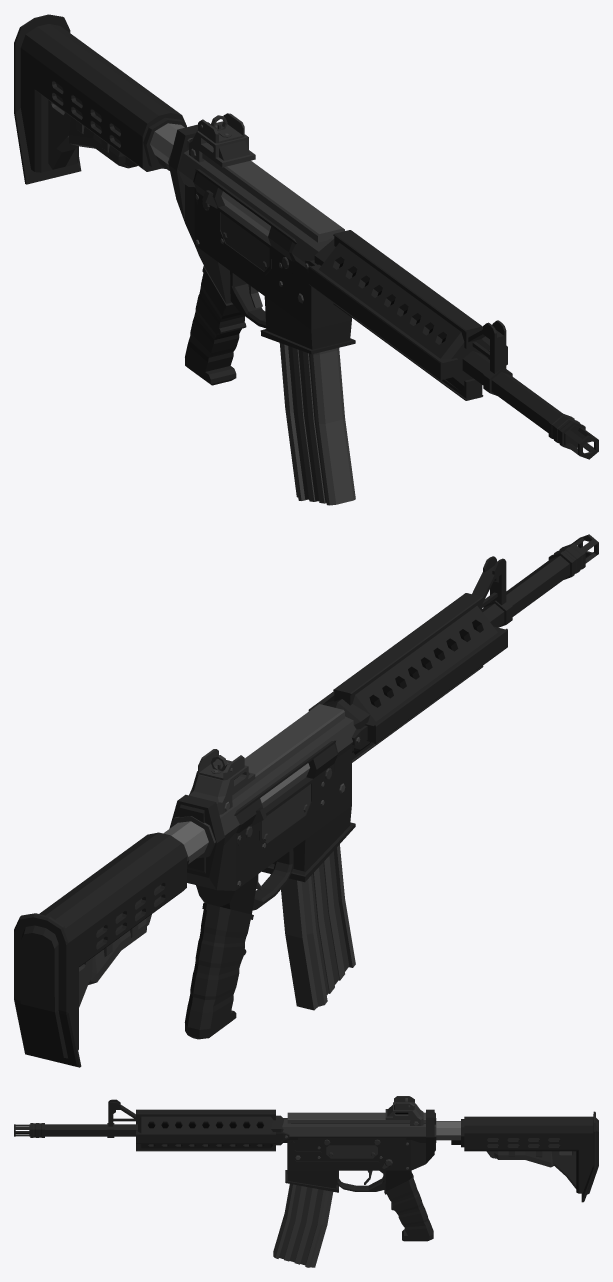
The picture shows the model from 3 angles, top to bottom: view 1: azimuth 30°, elevation 25°; view 2: azimuth 150°, elevation 25°; view 3: azimuth 270°, elevation 25°; orthographic projection. The views are drawn at different scales.
Parts seen in each view (by area): view 1: Body, Magazine; view 2: Body, Magazine; view 3: Body, Magazine.
Boxes of the visible parts, bbox=[...] form: Body: bbox=[14, 14, 598, 459]; Magazine: bbox=[279, 343, 355, 505]; Body: bbox=[14, 534, 598, 1067]; Magazine: bbox=[281, 844, 355, 1010]; Body: bbox=[14, 1096, 598, 1241]; Magazine: bbox=[273, 1184, 333, 1267].
Size of the model in its own units: 6.08 by 27.17 by 86.08.
